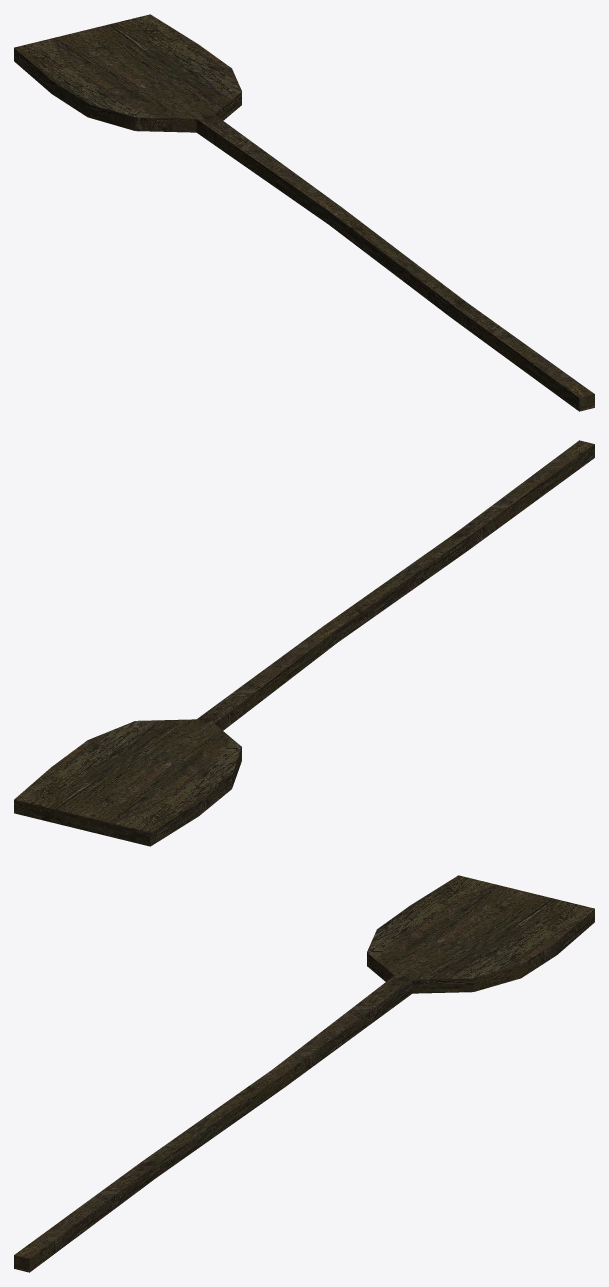
Rendered from KM_VOB_BREADGIVER.glb.
The picture shows the model from 3 angles, top to bottom: view 1: azimuth 30°, elevation 25°; view 2: azimuth 150°, elevation 25°; view 3: azimuth 330°, elevation 25°; orthographic projection.
Visible parts, largest first — view 1: KM_VOB_BREADGIVER; view 2: KM_VOB_BREADGIVER; view 3: KM_VOB_BREADGIVER.
Boxes of the visible parts, bbox=[...] form: KM_VOB_BREADGIVER: bbox=[14, 14, 594, 411]; KM_VOB_BREADGIVER: bbox=[14, 440, 594, 846]; KM_VOB_BREADGIVER: bbox=[14, 875, 594, 1272].
Bounding box in the file's own units: 0.4368 × 0.0515 × 2.6.
Materials: 1 (1 with a texture image).
